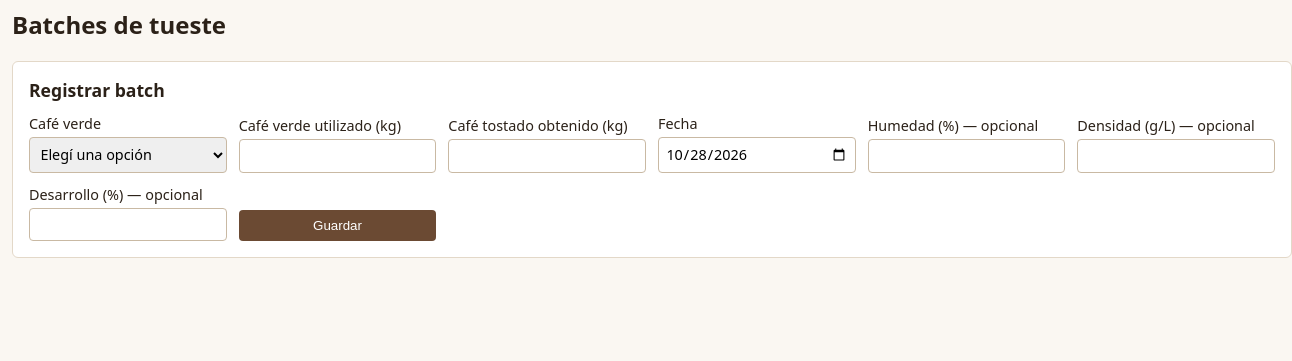
Test case: Página de batches › muestra los errores de validación junto a cada campo
Select "Colombia" in the dropdown at [128, 155], box [29,137,227,173]
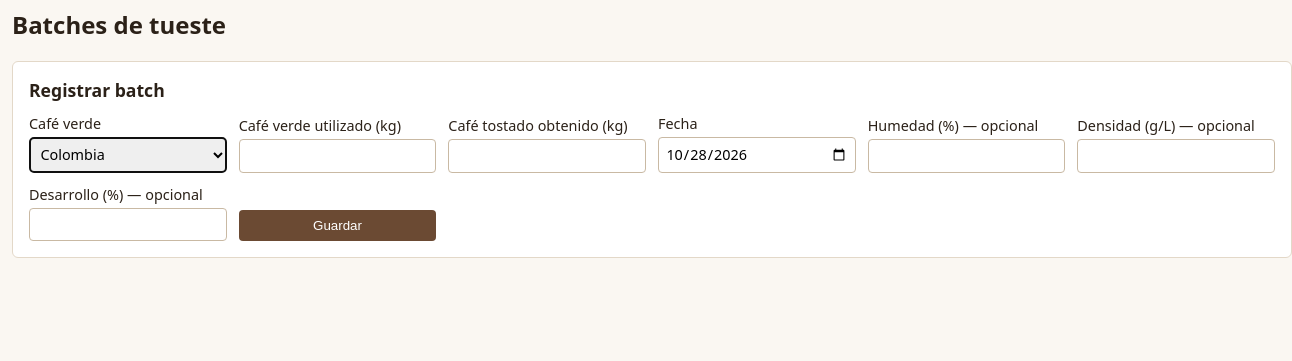
Type "5,25" into the field labelled "Café verde utilizado (kg)" at [338, 156], box [239,139,436,173]
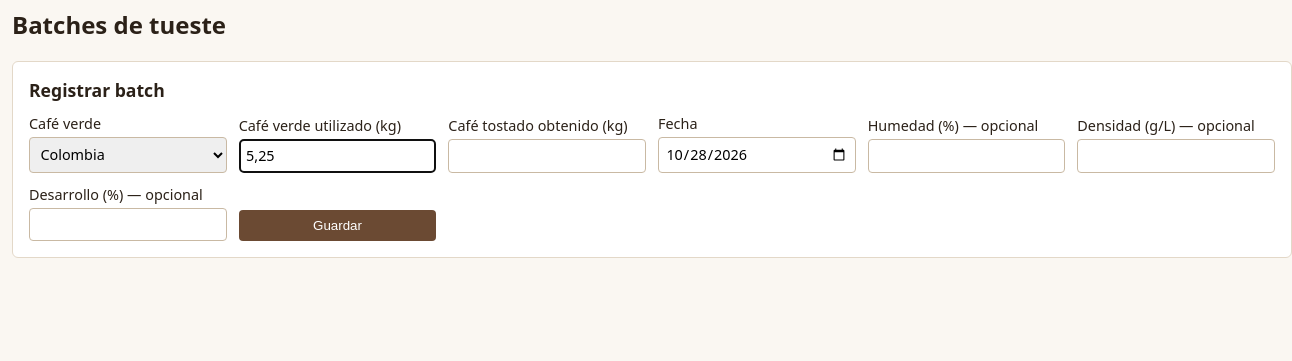
Type "4.5" into the field labelled "Café tostado obtenido (kg)" at [547, 156], box [448,139,646,173]
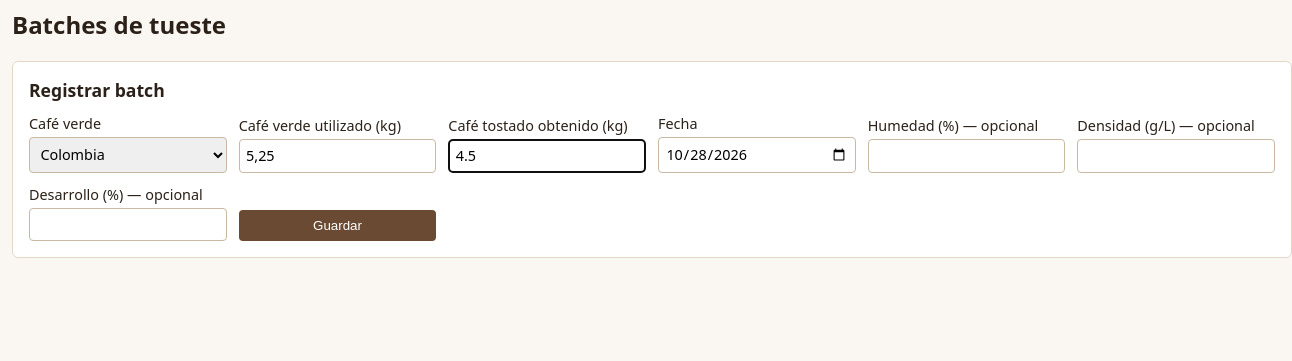
Click the button "Guardar" at [338, 226], box [239,210,436,241]
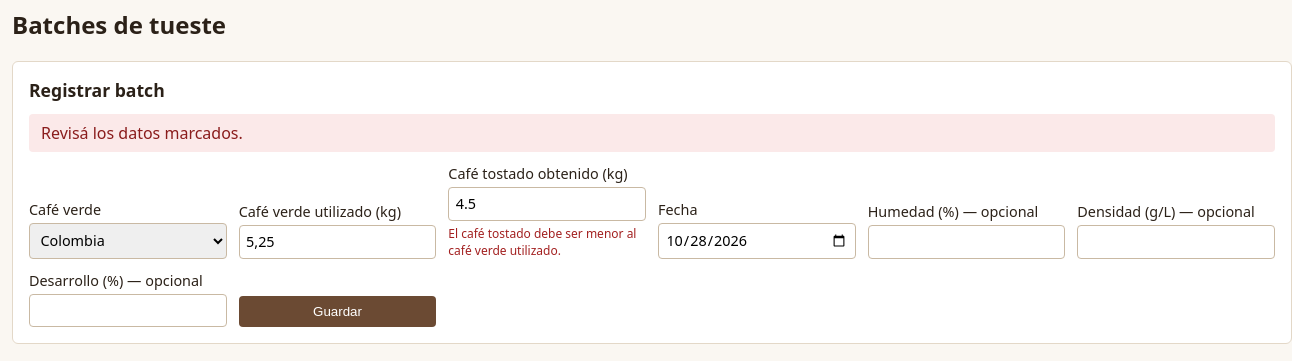
Now the text "El café tostado debe ser menor al café verde utilizado." is shown, box [448,225,646,259]
